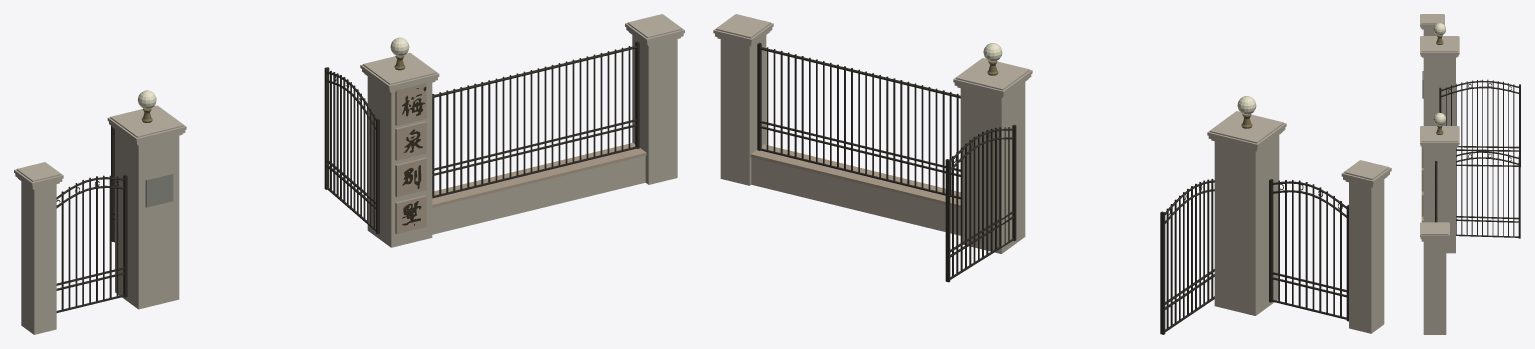
File: lod-source.glb
The picture shows the model from 3 angles, left to right: view 1: azimuth 30°, elevation 25°; view 2: azimuth 150°, elevation 25°; view 3: azimuth 270°, elevation 25°; orthographic projection. The views are drawn at different scales.
Parts seen in each view (by area): view 1: 新华路593弄梅泉别墅东北入口刻名门柱与铁门; view 2: 新华路593弄梅泉别墅东北入口刻名门柱与铁门; view 3: 新华路593弄梅泉别墅东北入口刻名门柱与铁门.
Part boxes in pixels (left/top/right/bottom): 新华路593弄梅泉别墅东北入口刻名门柱与铁门: left=14, top=14, right=684, bottom=334; 新华路593弄梅泉别墅东北入口刻名门柱与铁门: left=713, top=14, right=1391, bottom=334; 新华路593弄梅泉别墅东北入口刻名门柱与铁门: left=1420, top=14, right=1520, bottom=334.
Bounding box in the file's own units: 11.99 × 3.59 × 2.36.
